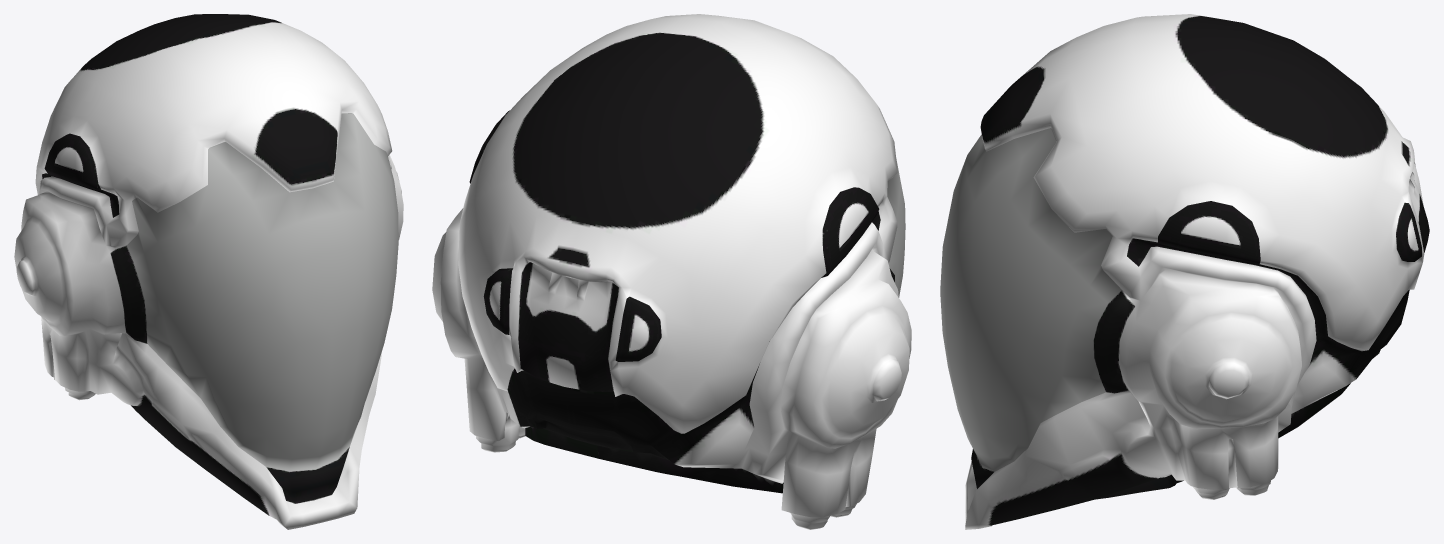
File: SurvivorMale_Head_Mask_Robot_LOD0.glb
The picture shows the model from 3 angles, left to right: view 1: azimuth 30°, elevation 25°; view 2: azimuth 150°, elevation 25°; view 3: azimuth 270°, elevation 25°; orthographic projection. The views are drawn at different scales.
Parts seen in each view (by area): view 1: Hoodie; view 2: Hoodie; view 3: Hoodie.
Boxes of the visible parts, x1,y1,x2,y2 form: Hoodie: [14, 14, 403, 529]; Hoodie: [432, 14, 911, 529]; Hoodie: [940, 14, 1429, 529].
Bounding box in the file's own units: 0.2528 × 0.2766 × 0.2559.
1 material, 1 textured.
